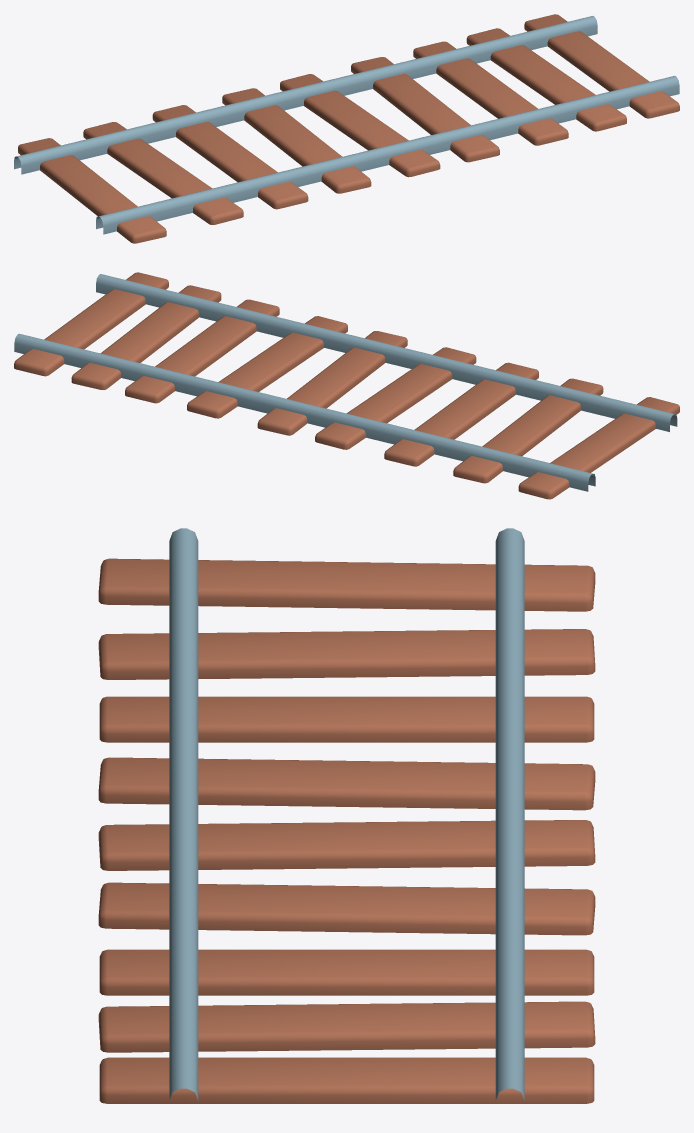
File: Rail.glb
3 views of the same model, one above another, from view 1: azimuth 30°, elevation 25°; view 2: azimuth 150°, elevation 25°; view 3: azimuth 270°, elevation 25° (orthographic). The views are drawn at different scales.
Parts seen in each view (by area): view 1: Rail; view 2: Rail; view 3: Rail.
Part boxes in pixels (x1,y1,x2,y2): Rail: (14,14,679,243); Rail: (14,272,679,499); Rail: (98,528,595,1103).
Size of the model in its own units: 4 by 0.1013 by 1.5.
